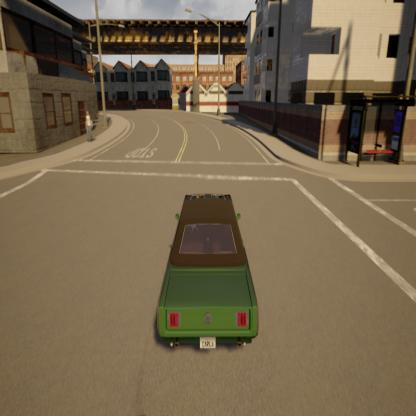Cars: (131, 151, 280, 402)
Pedestrian: (79, 104, 102, 160)
